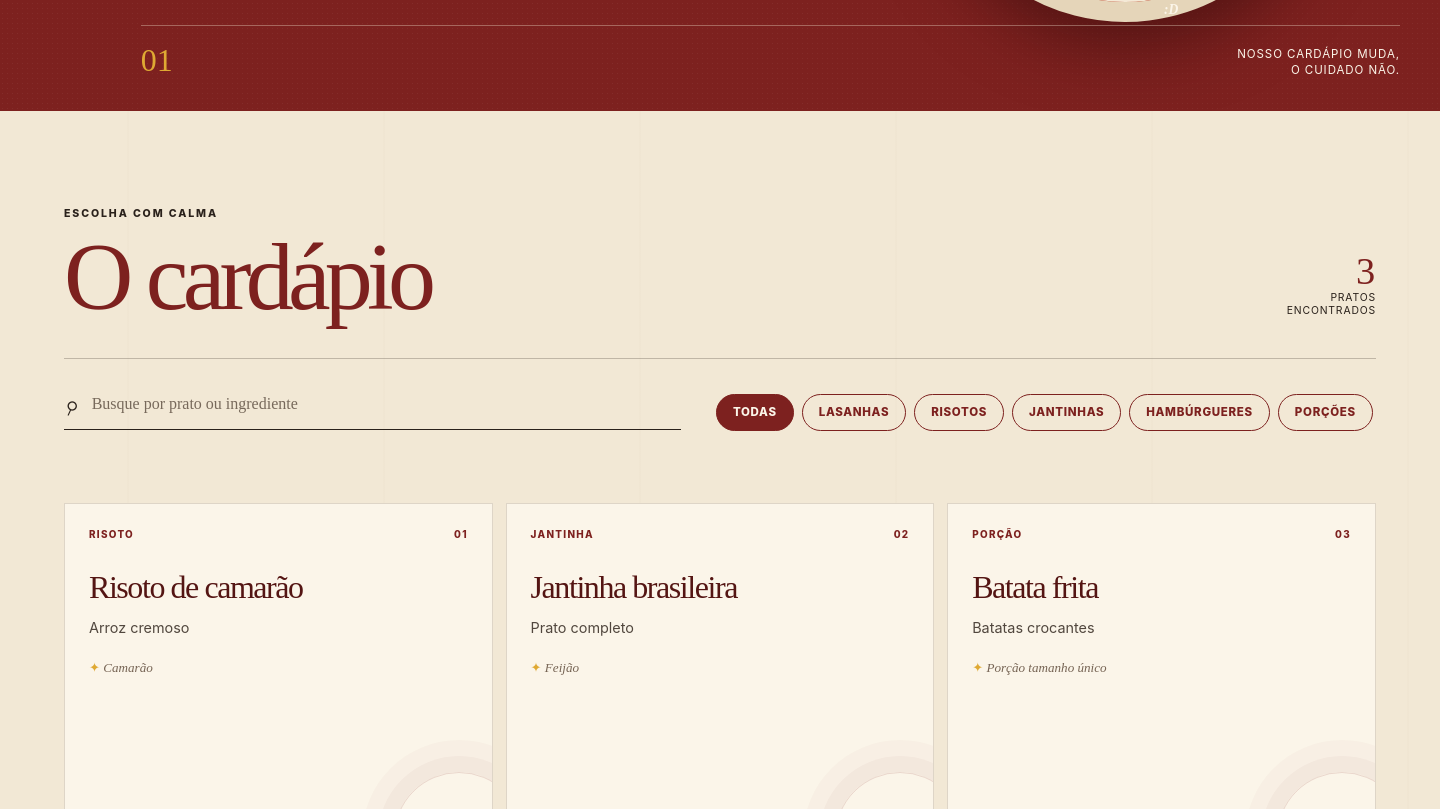
Test case: App › filtra os pratos pela busca
The image size is (1440, 809).
(page scrolled)
Expected: the heading "Risoto de camarão" is shown, [89,572,313,603]
Type "feijao" into the search field labelled "Buscar no cardápio".
click(385, 404); type("feijao")  # box [90,394,681,414]
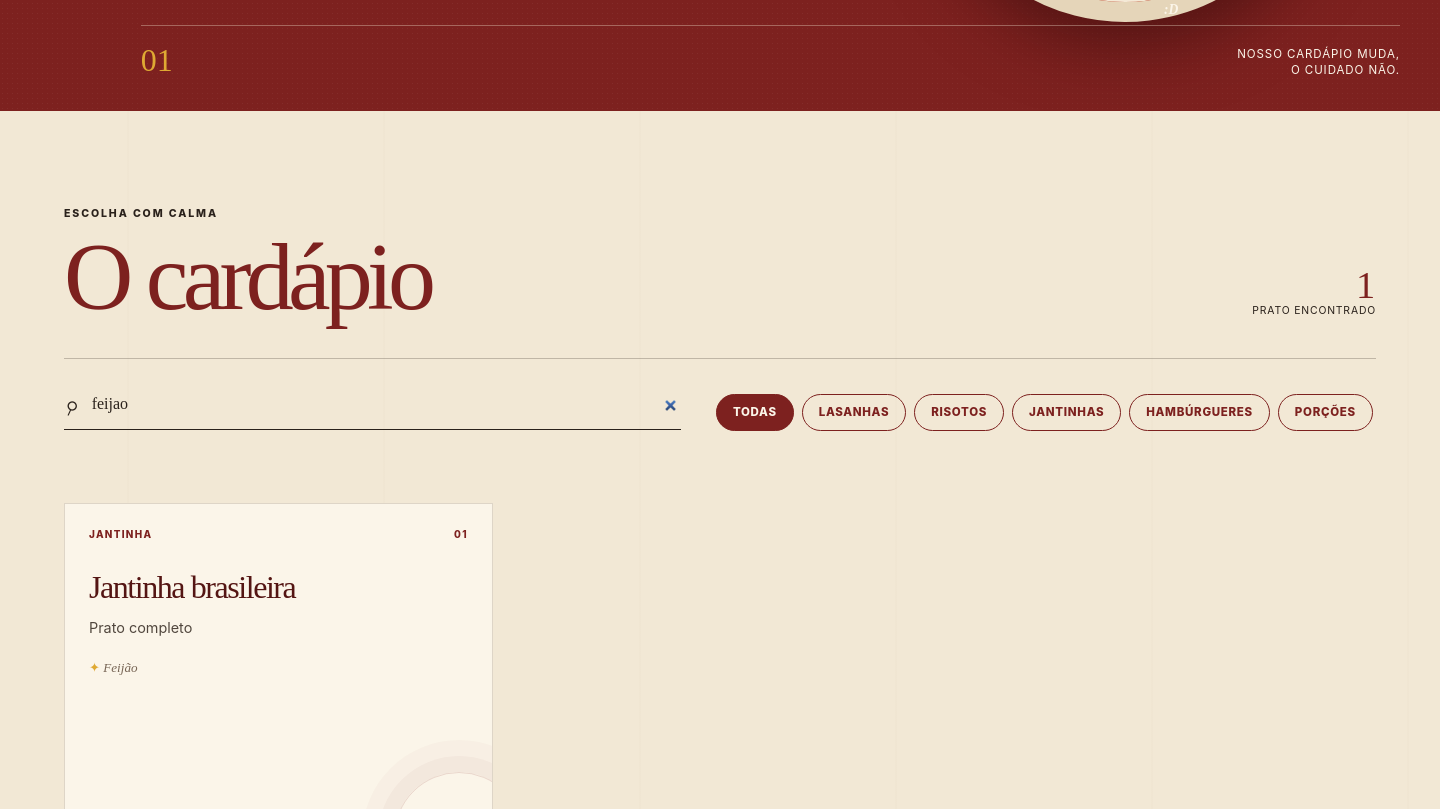
Expected: the heading "Jantinha brasileira" is shown, [89,572,313,603]
Expected: the heading "Risoto de camarão" is gone
